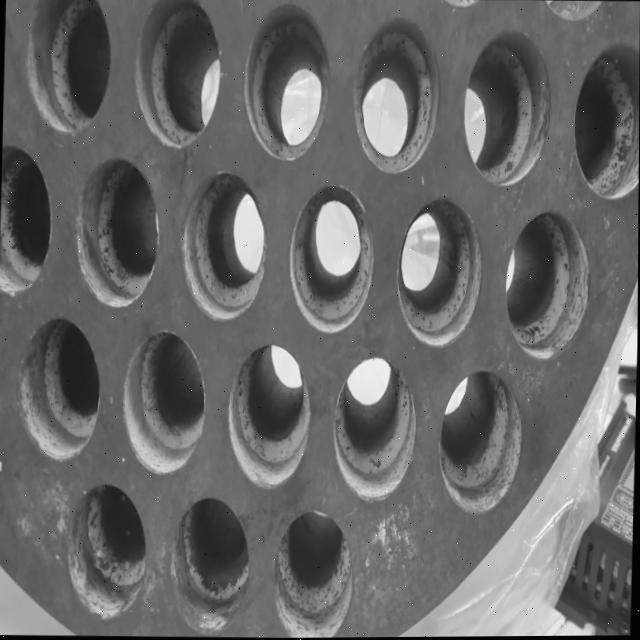Hole: (351, 16, 441, 176), (460, 30, 551, 188), (243, 4, 330, 163), (133, 0, 223, 149), (396, 196, 484, 348), (503, 210, 591, 361), (180, 170, 268, 321), (288, 182, 375, 334), (74, 157, 160, 309), (226, 342, 314, 490), (437, 368, 524, 517), (332, 355, 417, 505), (16, 314, 102, 462), (121, 330, 207, 475), (22, 0, 111, 136), (169, 495, 252, 634), (67, 483, 149, 620), (571, 41, 640, 201), (273, 507, 354, 638), (0, 143, 54, 298)
